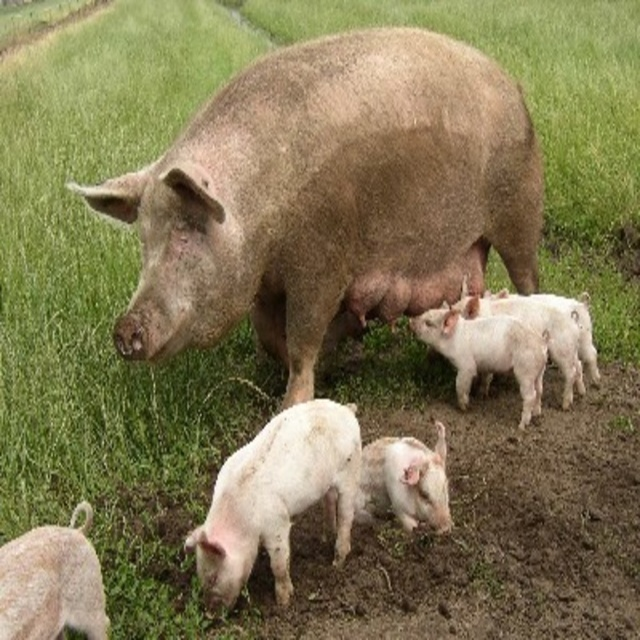Pig: (67, 26, 602, 619), (0, 497, 109, 638)
